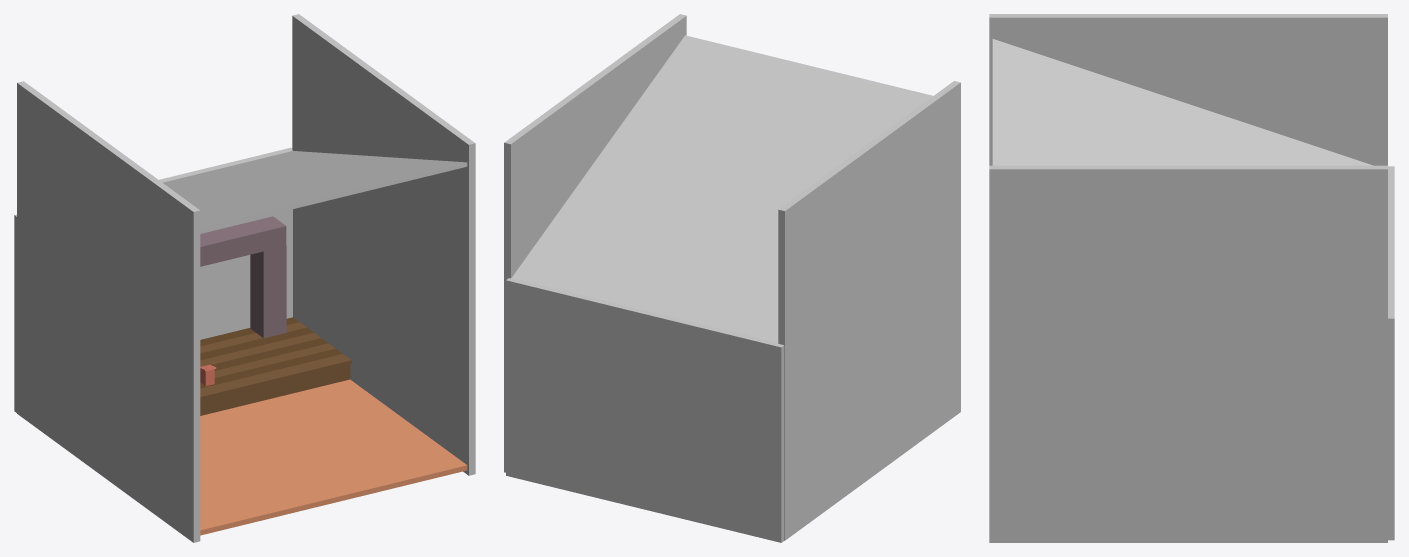
Rendered from Auditorio.fbx.
3 renders of one model, left to right at view 1: azimuth 30°, elevation 25°; view 2: azimuth 150°, elevation 25°; view 3: azimuth 270°, elevation 25°, orthographic. The views are drawn at different scales.
Visible parts, largest first — view 1: Cube.019, Cube.012, Cube.018, Cube.020, Cube.013, Cube.017, Cube.016; view 2: Cube.020, Cube.019, Cube.012; view 3: Cube.012, Cube.019, Cube.020.
Boxes of the visible parts, <box> form: Cube.019: <box>17,81,200,542</box>; Cube.012: <box>292,14,475,475</box>; Cube.018: <box>200,379,467,535</box>; Cube.020: <box>14,147,467,412</box>; Cube.013: <box>200,317,351,415</box>; Cube.017: <box>250,246,286,338</box>; Cube.016: <box>200,216,286,266</box>; Cube.020: <box>506,35,932,542</box>; Cube.019: <box>778,81,960,540</box>; Cube.012: <box>504,14,686,472</box>; Cube.012: <box>989,165,1387,542</box>; Cube.019: <box>989,14,1387,165</box>; Cube.020: <box>992,39,1394,540</box>.
Size of the model in its own units: 2435 by 2732 by 2688.
